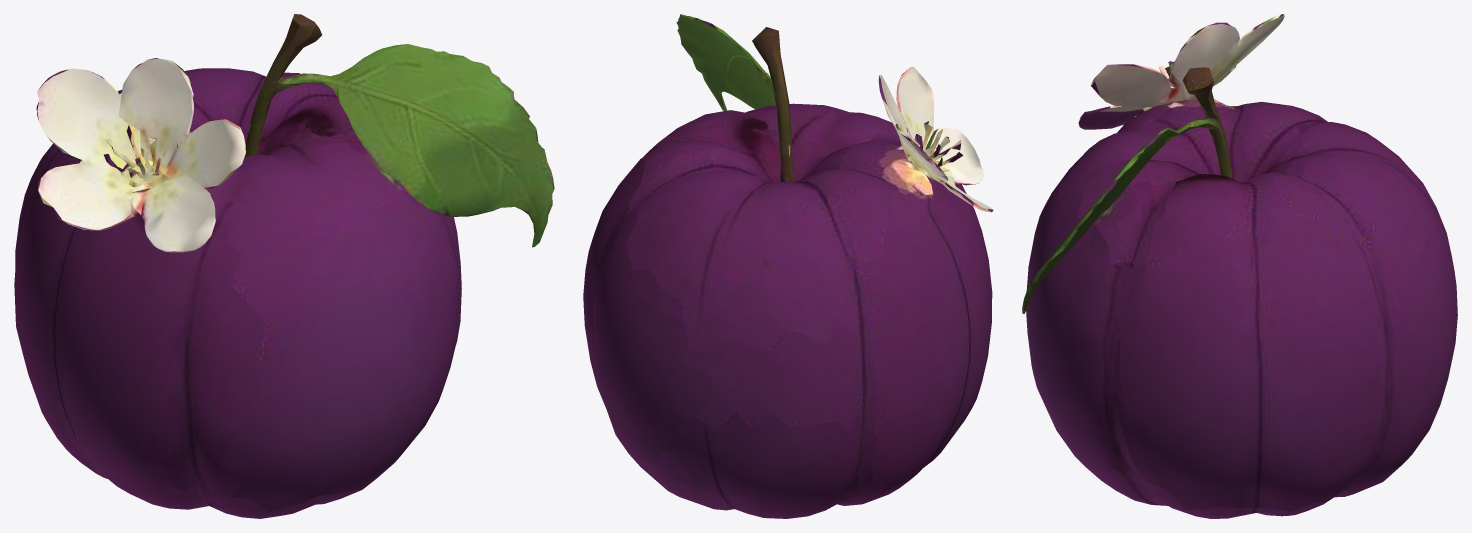
Rendered from plum.glb.
3 views of the same model, side by side, from view 1: azimuth 30°, elevation 25°; view 2: azimuth 150°, elevation 25°; view 3: azimuth 270°, elevation 25° (orthographic). The views are drawn at different scales.
Visible parts, largest first — view 1: item_plum; view 2: item_plum; view 3: item_plum.
Boxes of the visible parts, x1,y1,x2,y2 form: item_plum: (14,14,554,518); item_plum: (583,14,993,518); item_plum: (1022,14,1457,518).
Size of the model in its own units: 0.9448 by 1 by 0.9152.
Materials: 1 (1 with a texture image).
